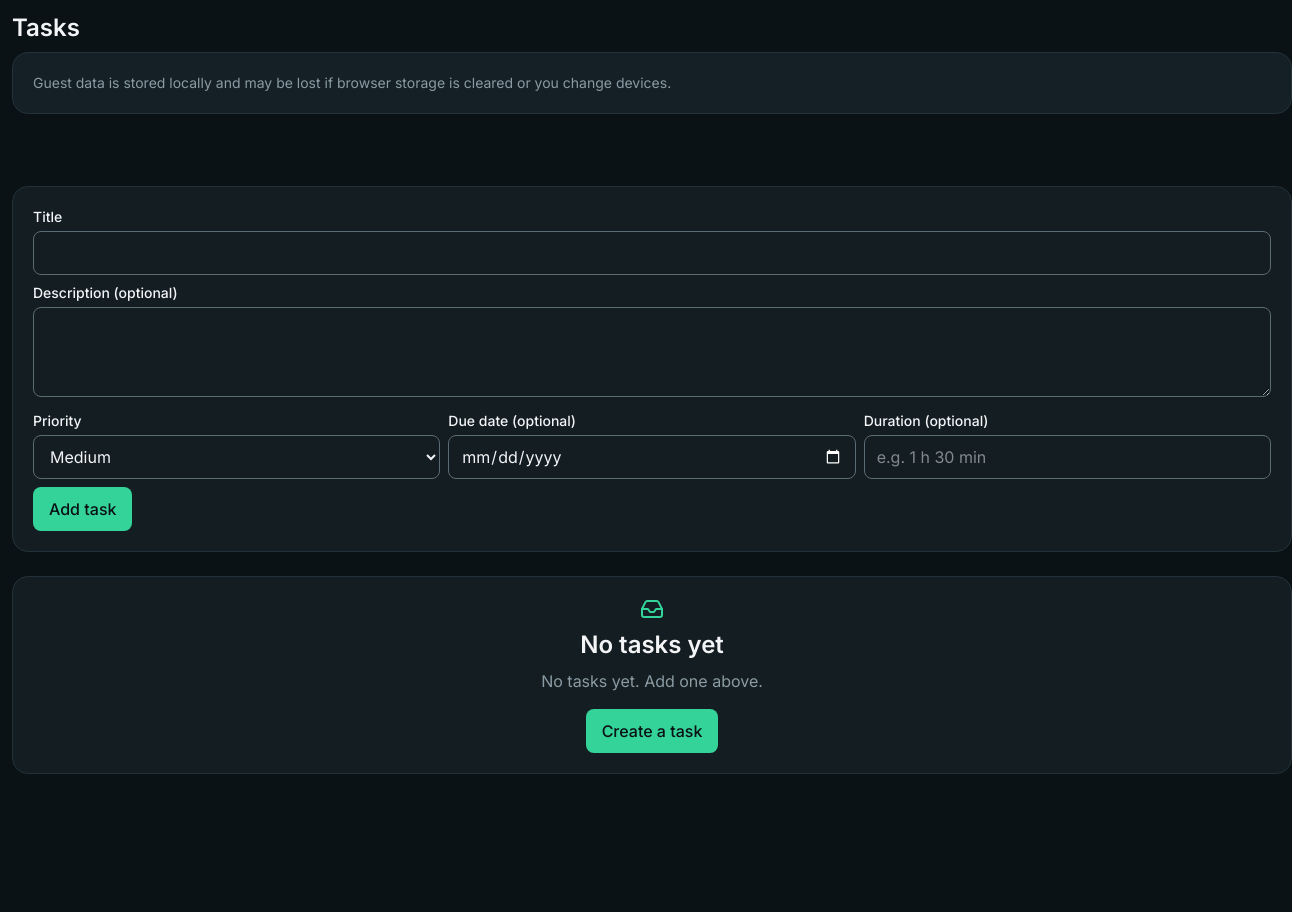
zero-network task operations › stays offline when persistence fails
In the field labelled "Title": (652, 253) [33,231,1271,275], type "Quota task"
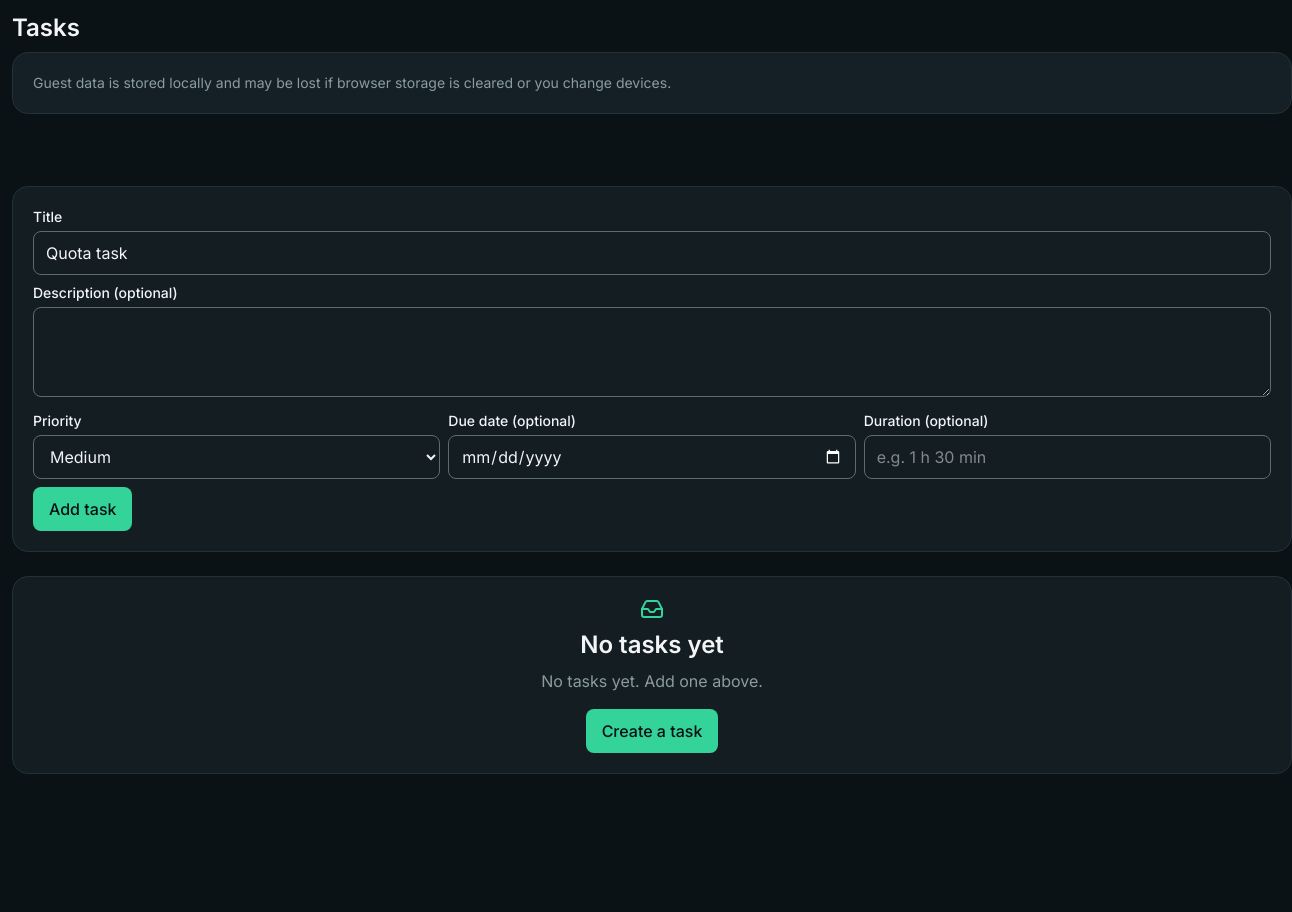
Click the button "Add task": (83, 509) [33,487,132,531]
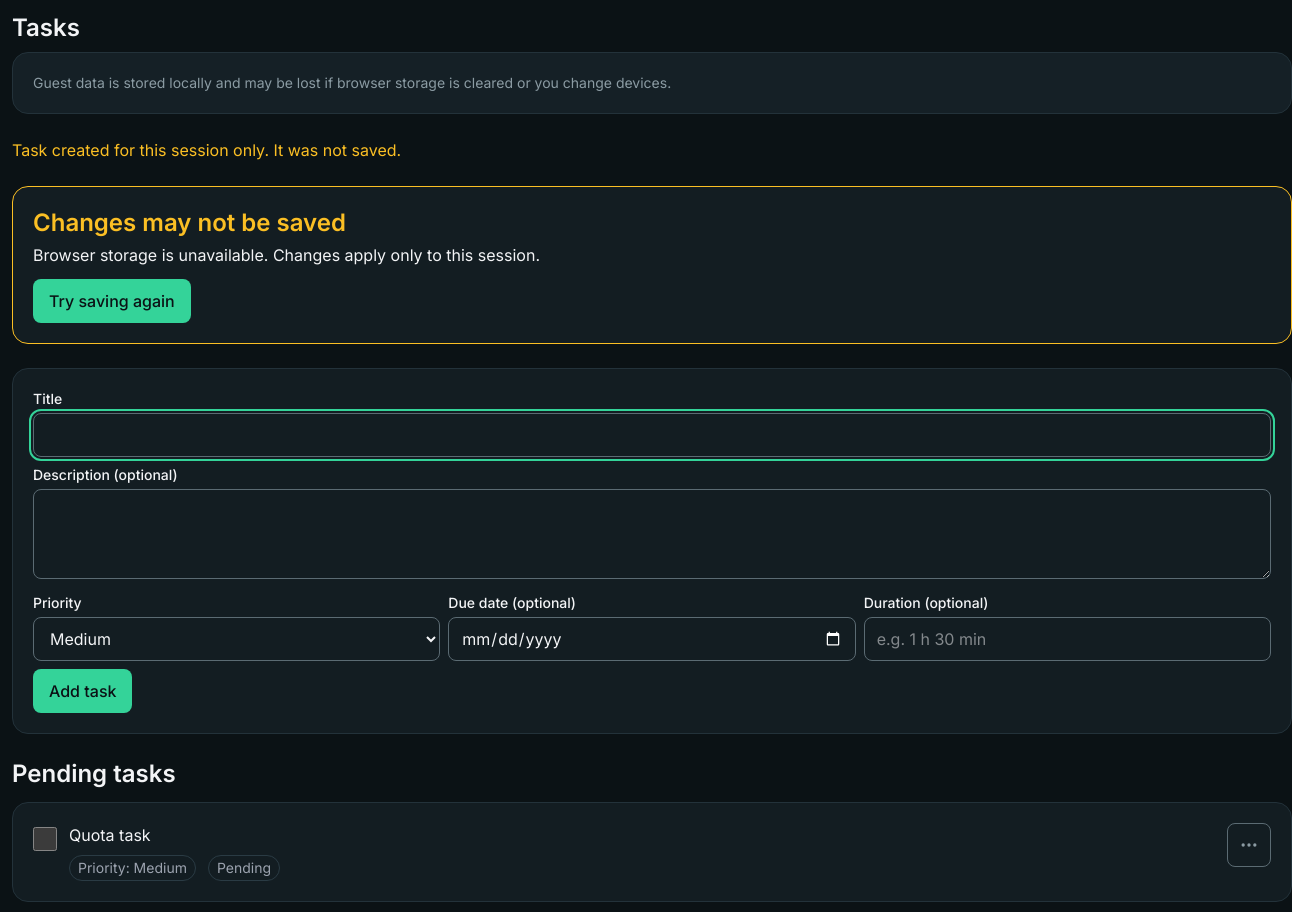
Result: the text "Quota task" is shown at [69,825,151,845]
Result: the message "Task created for this session only. It was not saved." is shown at [12,140,401,160]
